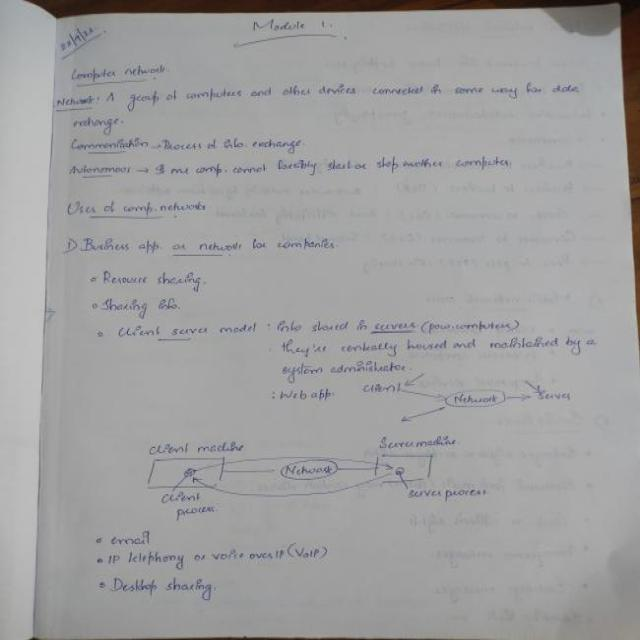Figure Detection - v3 Dataset Version2: (134, 370, 586, 522)
